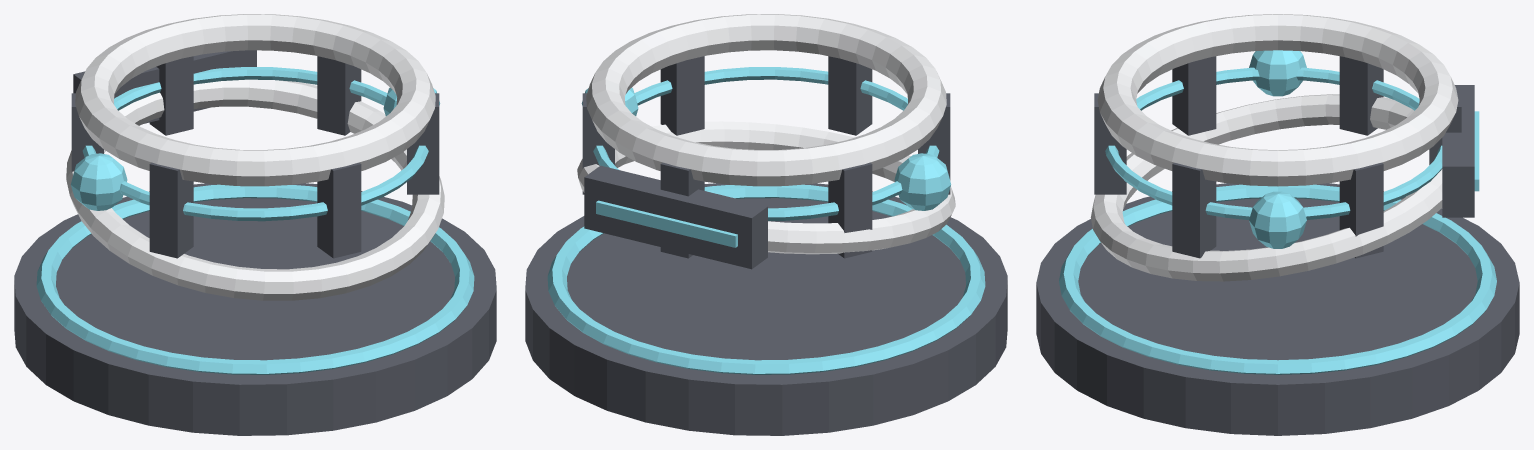
Rendered from FullDive_Headset.fbx.
3 views of the same model, side by side, from view 1: azimuth 30°, elevation 25°; view 2: azimuth 150°, elevation 25°; view 3: azimuth 270°, elevation 25° (orthographic).
Parts seen in each view (by area): view 1: DockBase, RingUpper, RingLower, DockGlow, Glow, Spacer1, Spacer0, Headset, Spacer3, Spacer4, Visor, Spacer2 (+1 smaller); view 2: DockBase, RingUpper, DockGlow, Visor, RingLower, Glow, Spacer1, Spacer2, Headset, Spacer5, VisorGlow, Spacer4 (+2 smaller); view 3: DockBase, RingUpper, RingLower, DockGlow, Glow, Headset, Spacer2, Visor, Spacer0, Spacer3, Spacer5, Spacer1 (+2 smaller).
Boxes of the visible parts, x1,y1,x2,y2 form: DockBase: [14, 183, 496, 435]; RingUpper: [75, 14, 435, 186]; RingLower: [66, 79, 444, 300]; DockGlow: [36, 184, 474, 374]; Glow: [82, 67, 428, 221]; Spacer1: [317, 162, 361, 258]; Spacer0: [149, 162, 193, 258]; Headset: [70, 88, 440, 210]; Spacer3: [317, 56, 361, 135]; Spacer4: [149, 56, 193, 135]; Visor: [73, 50, 256, 123]; Spacer2: [407, 93, 439, 194]; DockBase: [525, 183, 1007, 435]; RingUpper: [586, 14, 946, 186]; DockGlow: [547, 184, 985, 374]; Visor: [584, 165, 767, 269]; RingLower: [577, 121, 955, 254]; Glow: [593, 67, 939, 220]; Spacer1: [828, 56, 872, 135]; Spacer2: [660, 56, 704, 135]; Headset: [581, 88, 951, 210]; Spacer5: [828, 162, 872, 258]; VisorGlow: [596, 200, 737, 247]; Spacer4: [660, 162, 704, 258]; DockBase: [1036, 183, 1519, 435]; RingUpper: [1097, 14, 1458, 186]; RingLower: [1090, 94, 1442, 281]; DockGlow: [1059, 184, 1496, 374]; Glow: [1105, 67, 1442, 219]; Headset: [1249, 50, 1306, 248]; Spacer2: [1172, 162, 1216, 258]; Visor: [1442, 85, 1474, 217]; Spacer0: [1172, 56, 1216, 135]; Spacer3: [1339, 162, 1383, 258]; Spacer5: [1339, 56, 1383, 135]; Spacer1: [1094, 93, 1126, 194].
Size of the model in its own units: 0.3 by 0.3 by 0.172.
